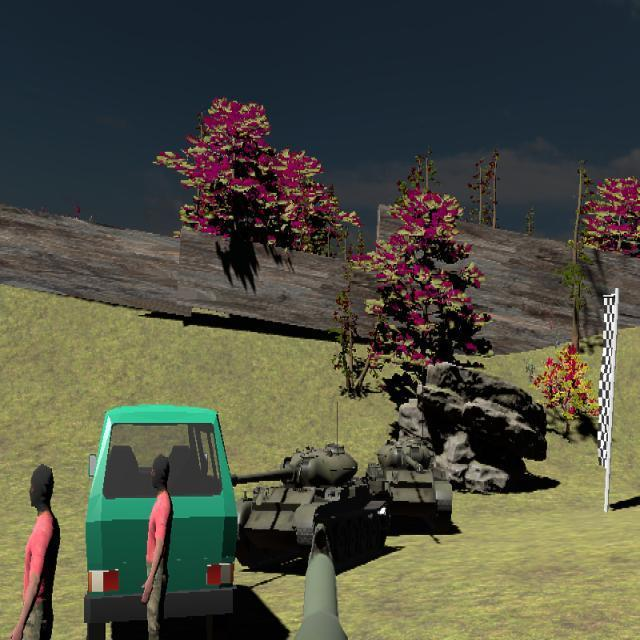Human: (7, 461, 61, 640), (139, 451, 174, 640)
Tank: (227, 440, 389, 574), (365, 437, 453, 536)
car: (83, 403, 242, 640)
